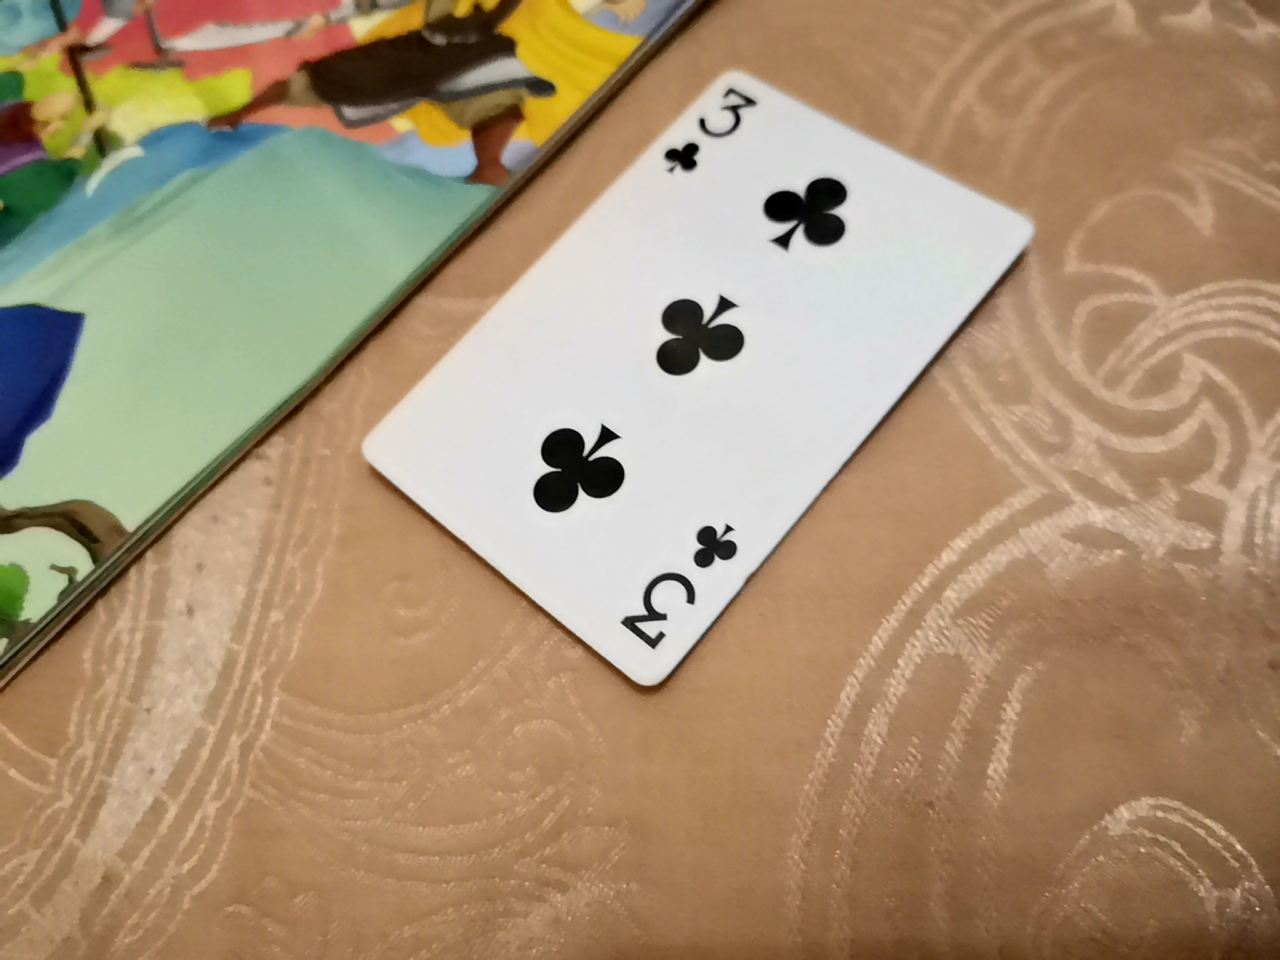mh 3: (345, 54, 1035, 709)
